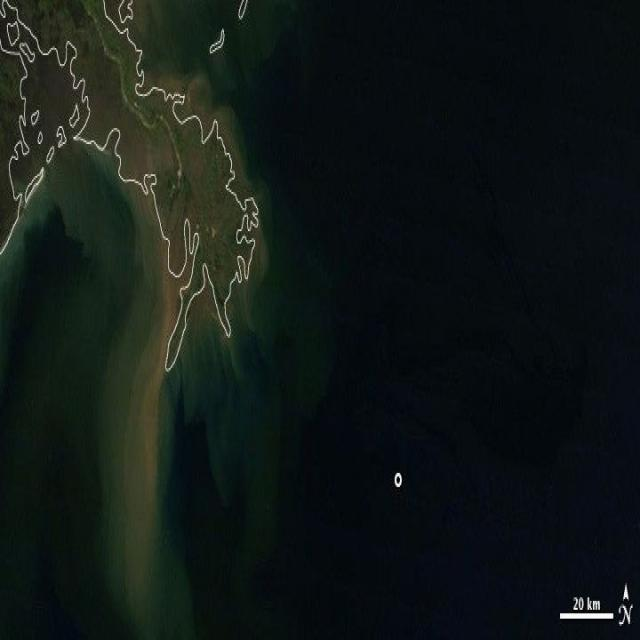oil spill: (25, 258, 277, 638)
